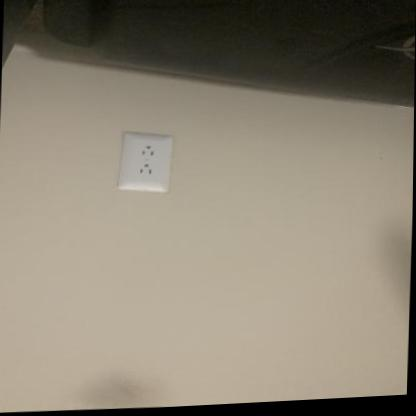OUTLET: (118, 128, 172, 194)
